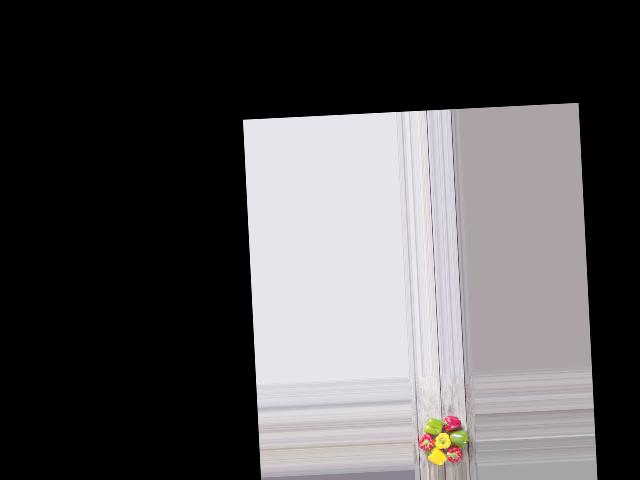bell_pepper: (442, 446, 462, 466)
